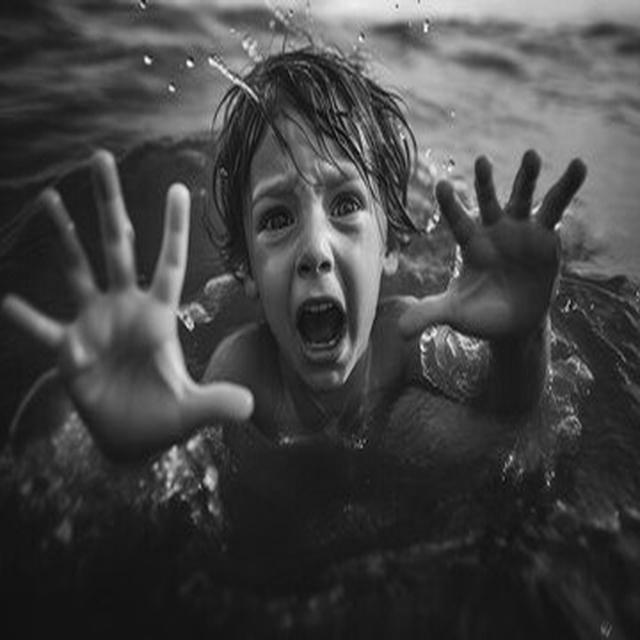Fear: (246, 113, 386, 390)
